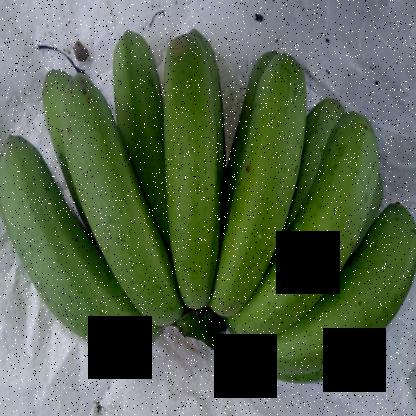unripe: (48, 68, 174, 341), (0, 127, 112, 371), (206, 47, 306, 316), (249, 117, 381, 315), (171, 24, 227, 321)
